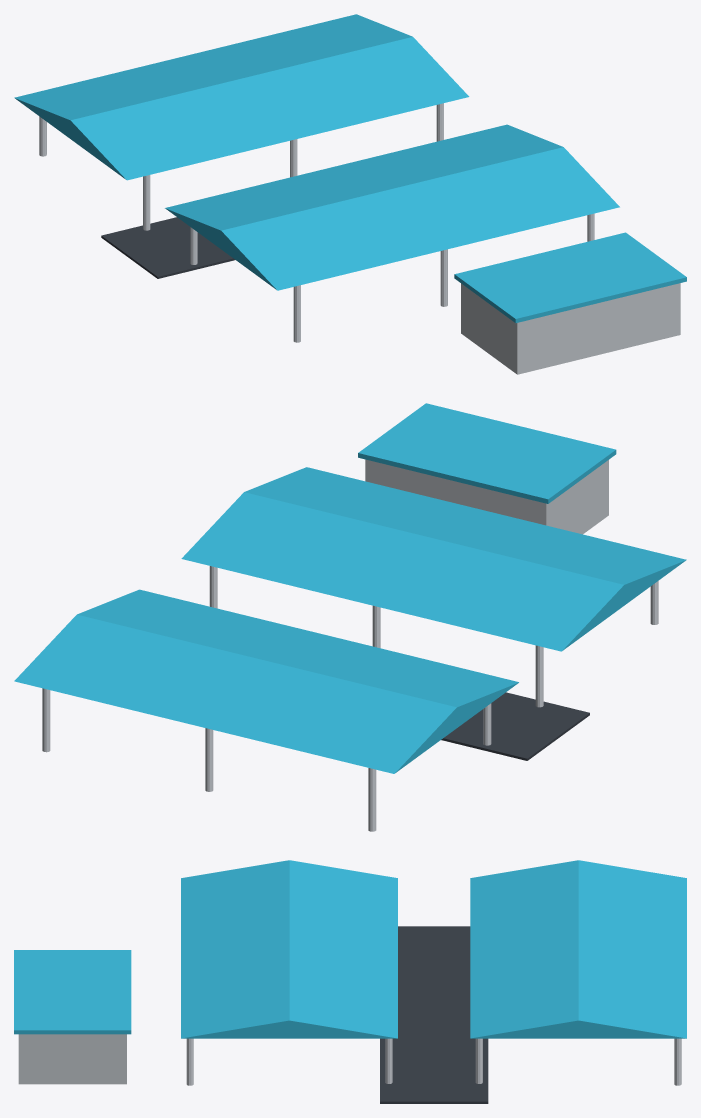
Rendered from bim-yard-s4.glb.
The picture shows the model from 3 angles, top to bottom: view 1: azimuth 30°, elevation 25°; view 2: azimuth 150°, elevation 25°; view 3: azimuth 270°, elevation 25°; orthographic projection. The views are drawn at different scales.
Visible parts, largest first — view 1: TensionShed_58.0_16.0, TensionShed_58.0_-16.0, ControlHouse, ControlRoof, HaulApron; view 2: TensionShed_58.0_-16.0, TensionShed_58.0_16.0, ControlRoof, ControlHouse, HaulApron; view 3: TensionShed_58.0_-16.0, TensionShed_58.0_16.0, HaulApron, ControlRoof, ControlHouse, ShedCol_58.0_16.0_76.0_27.0.
Part boxes in pixels (box(x1,y1,x2,y2)): TensionShed_58.0_16.0: box(14, 14, 469, 180); TensionShed_58.0_-16.0: box(165, 124, 619, 290); ControlHouse: box(461, 283, 680, 374); ControlRoof: box(454, 232, 686, 322); HaulApron: box(101, 217, 234, 278); TensionShed_58.0_-16.0: box(181, 467, 686, 651); TensionShed_58.0_16.0: box(14, 589, 518, 773); ControlRoof: box(358, 403, 616, 503); ControlHouse: box(365, 459, 608, 534); HaulApron: box(441, 692, 589, 760); TensionShed_58.0_-16.0: box(181, 860, 397, 1038); TensionShed_58.0_16.0: box(470, 860, 686, 1038); HaulApron: box(380, 926, 488, 1103); ControlRoof: box(14, 950, 131, 1034); ControlHouse: box(18, 1034, 126, 1084); ShedCol_58.0_16.0_76.0_27.0: box(674, 1038, 681, 1085).
Bounding box in the file's own units: 46 × 9.25 × 74.5.
